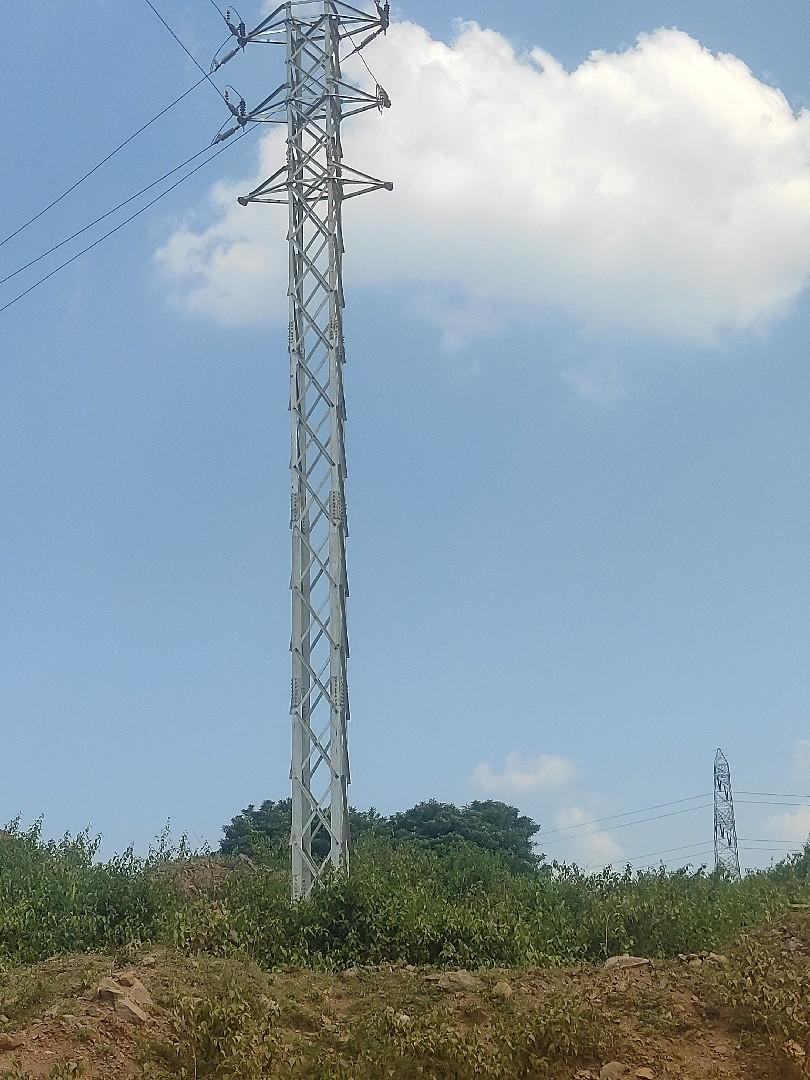Microwave Antenna: (221, 0, 405, 847)
